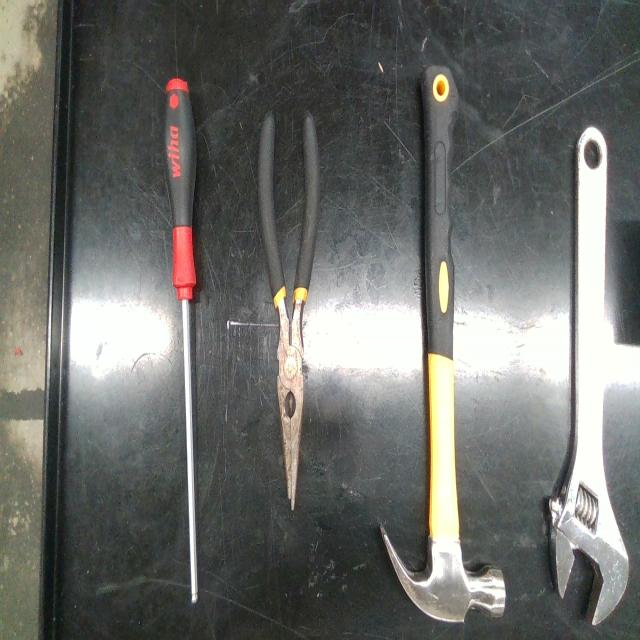Screwdriver: (165, 78, 198, 601)
